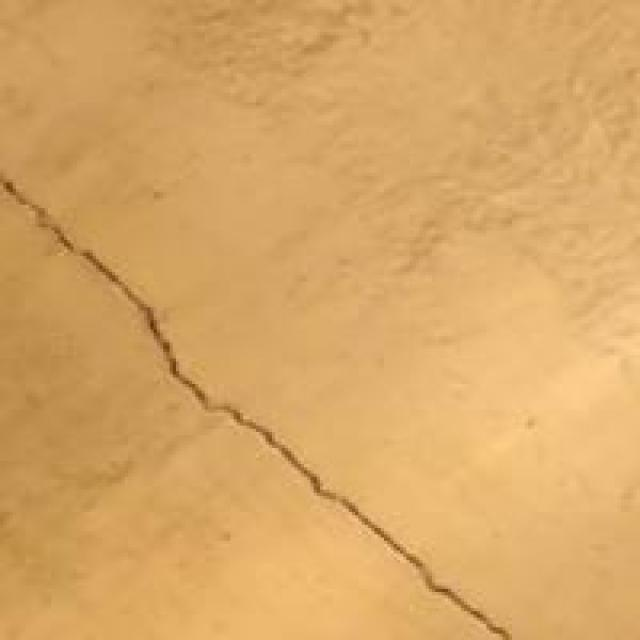Crack: (3, 152, 506, 635)
